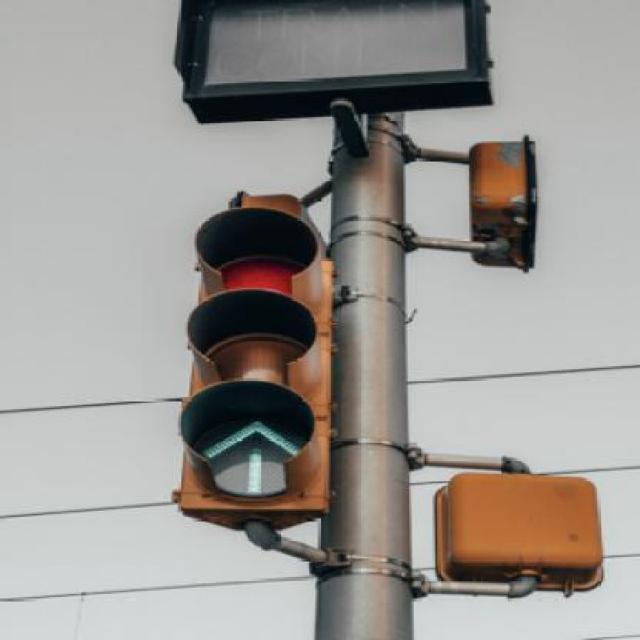Traffic_signal: (171, 189, 335, 537)
